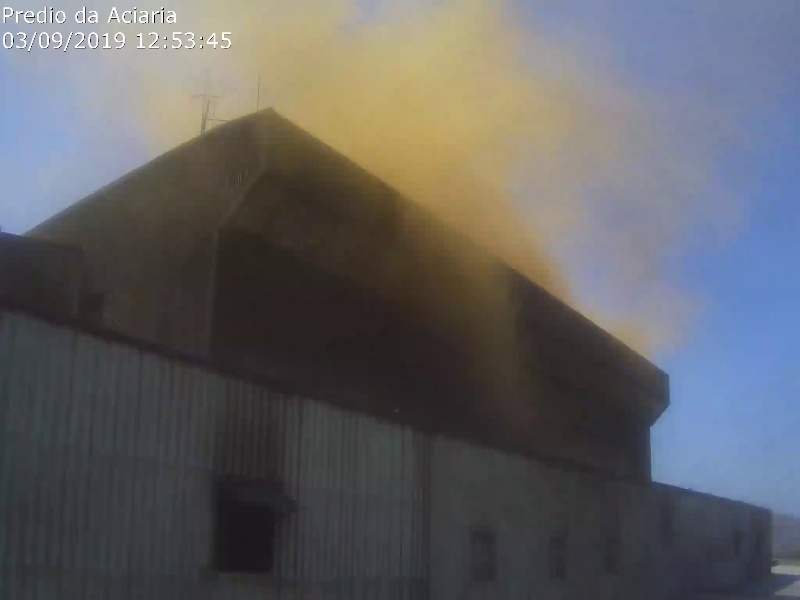pessimo: (138, 7, 672, 422)
